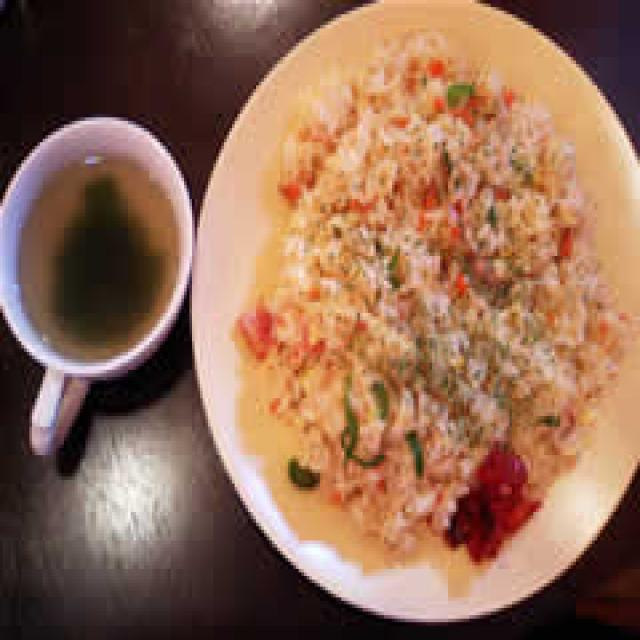米饭主食: (184, 0, 640, 640)
